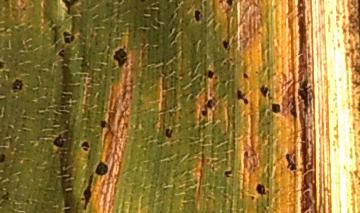tarspot: (297, 77, 314, 117), (80, 172, 94, 209), (111, 46, 129, 69), (283, 151, 299, 172), (59, 1, 79, 17), (235, 87, 249, 107), (288, 93, 298, 120), (94, 160, 109, 177), (52, 133, 66, 150), (60, 30, 76, 44), (10, 77, 23, 93), (269, 101, 283, 115), (255, 183, 267, 196), (259, 83, 269, 98), (80, 140, 91, 153), (193, 9, 202, 24), (223, 167, 234, 179), (56, 47, 67, 59), (220, 38, 230, 51), (200, 103, 209, 117), (98, 119, 109, 130), (164, 127, 174, 139), (206, 69, 215, 81), (206, 98, 214, 111), (241, 71, 249, 80), (1, 152, 7, 164), (1, 59, 6, 72), (249, 195, 256, 202), (20, 5, 27, 12), (225, 1, 233, 7), (116, 1, 124, 6), (217, 1, 225, 4), (138, 1, 146, 4), (2, 1, 10, 3)
